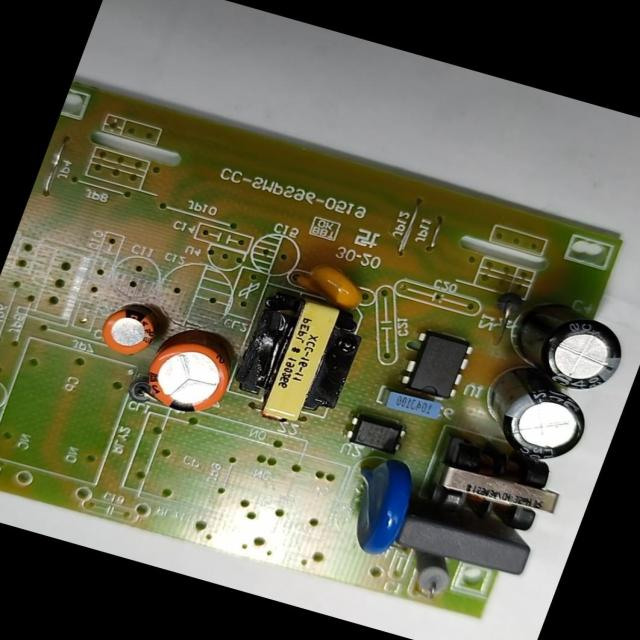Cap1: (134, 332, 240, 424)
Cap2: (94, 297, 164, 362)
Cap3: (464, 361, 602, 472)
Cap4: (496, 297, 634, 401)
MOSFET: (395, 326, 479, 404)
Mov: (329, 450, 427, 561)
Resistor: (398, 549, 461, 603)
Transformer: (228, 286, 372, 430), (417, 430, 574, 547)
